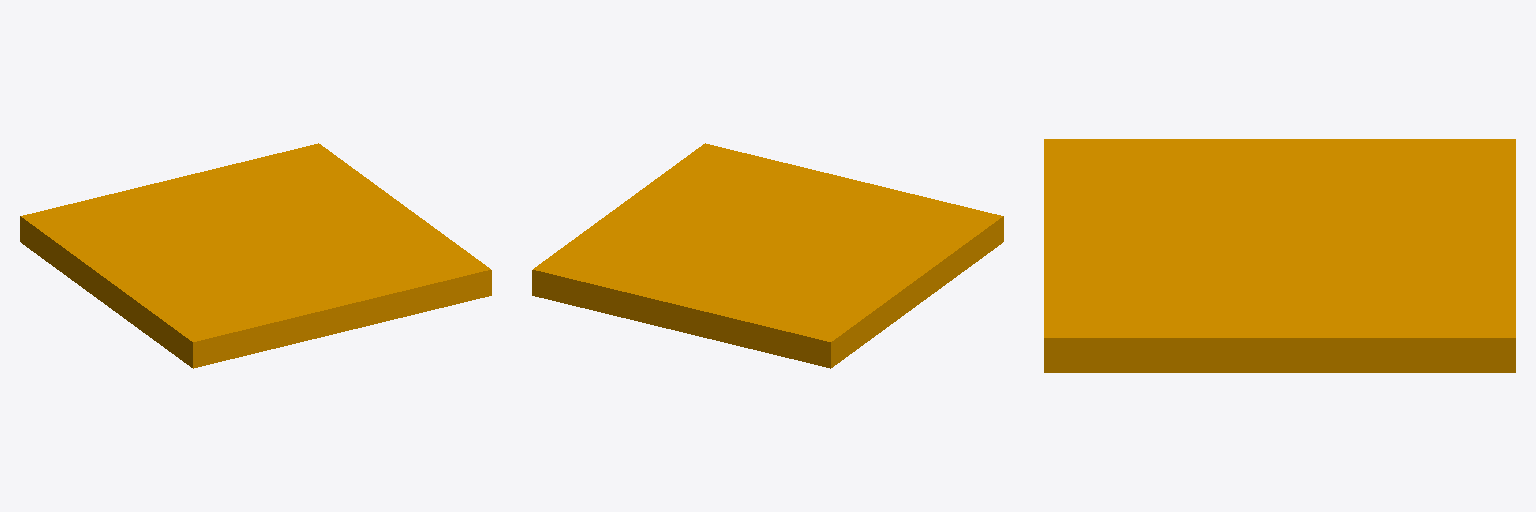
The robot description file, URDF, robot "qr_code_cube":
<?xml version="1.0"?>
<robot name="qr_code_cube">
  <link name="base_link">
    <visual>
      <geometry>
        <mesh filename="plate_mesh.obj"/>
      </geometry>
      <material name="qr_code">
        <texture filename="qr_code.png"/>
      </material>
    </visual>
  </link>
</robot>

--- Render facts (derived) ---
The picture shows the robot from 3 angles, left to right: view 1: azimuth 30°, elevation 25°; view 2: azimuth 150°, elevation 25°; view 3: azimuth 270°, elevation 25°; orthographic projection.
Robot: qr_code_cube — 1 links, 0 joints (none); root link base_link; default pose: all joints at 0.
Visible links, largest first — view 1: base_link; view 2: base_link; view 3: base_link.
Link boxes in pixels (box(x1,y1,x2,y2)): base_link: box(20, 143, 491, 368); base_link: box(532, 143, 1003, 368); base_link: box(1044, 139, 1515, 372).
Size in the robot's own frame: 0.119 by 0.119 by 0.01 metres.
Meshes: 1 distinct files referenced, 1 mesh visuals loaded (1 OBJ).